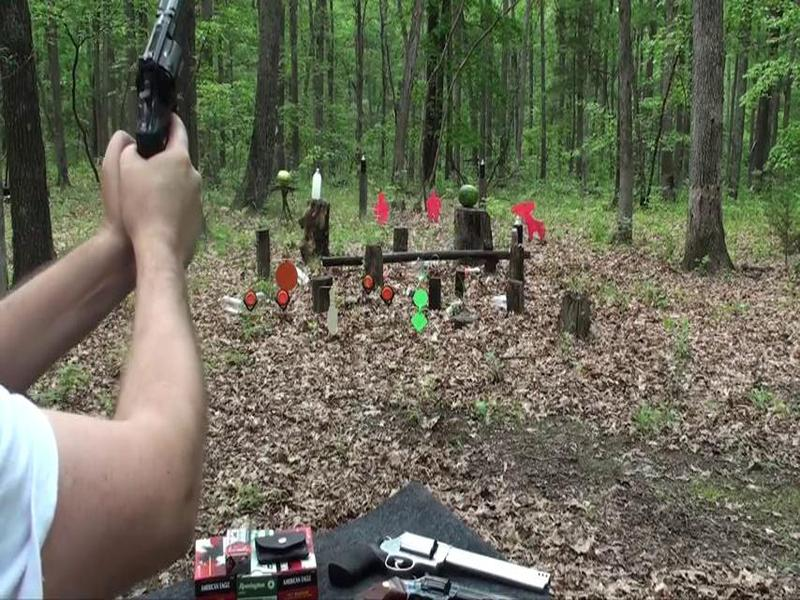Revolver: (97, 1, 217, 186)
